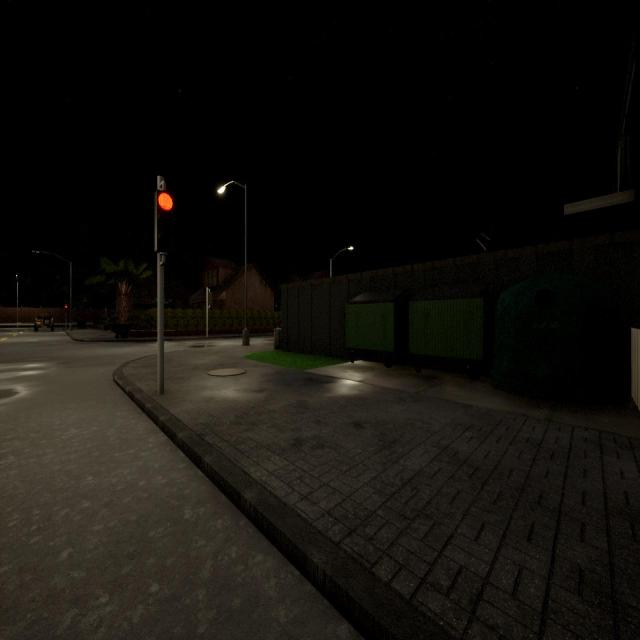Vehicle: (34, 312, 54, 332)
traffic_light: (154, 189, 176, 253), (208, 292, 212, 305), (64, 305, 68, 312)
